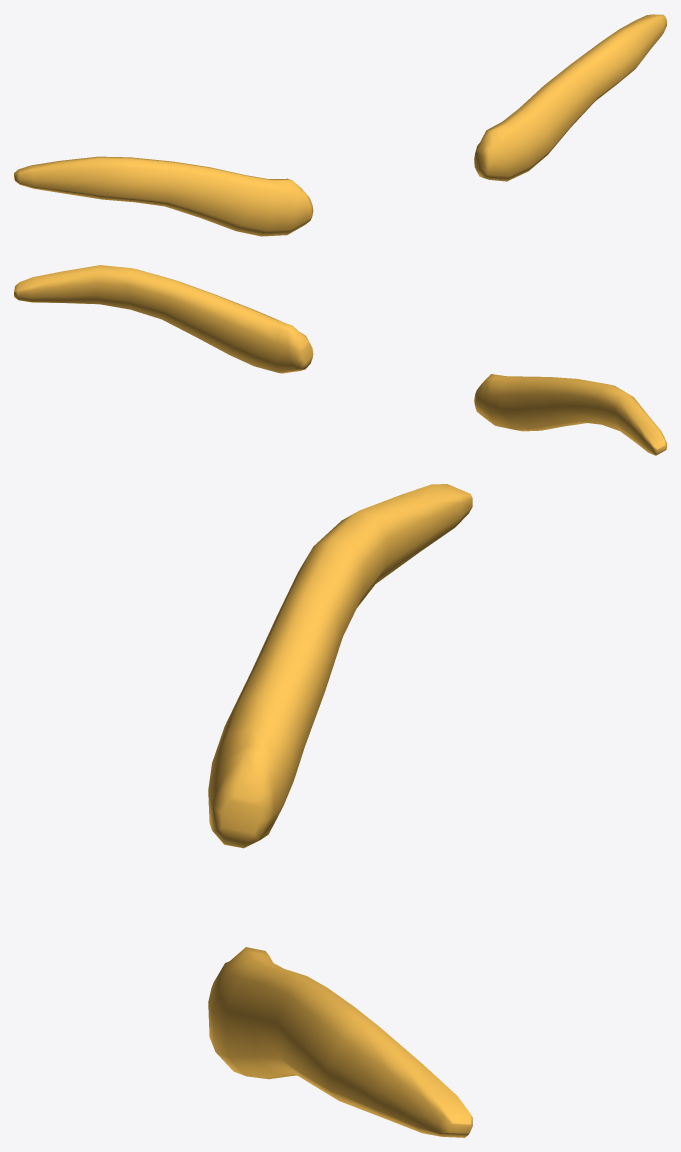
The model's file is Eyebrows_17_05.fbx.
3 renders of one model, top to bottom at view 1: azimuth 30°, elevation 25°; view 2: azimuth 150°, elevation 25°; view 3: azimuth 270°, elevation 25°, orthographic. The views are drawn at different scales.
Parts seen in each view (by area): view 1: Eyebrows_17_05; view 2: Eyebrows_17_05; view 3: Eyebrows_17_05.
Boxes of the visible parts, <box> form: Eyebrows_17_05: <box>14,14,666,236</box>; Eyebrows_17_05: <box>14,265,666,455</box>; Eyebrows_17_05: <box>208,484,472,1137</box>.
Bounding box in the file's own units: 18.79 × 2.52 × 3.3.
